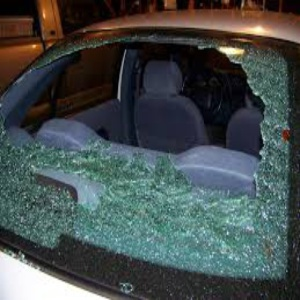rear_windshield_glass: (22, 47, 275, 258)
